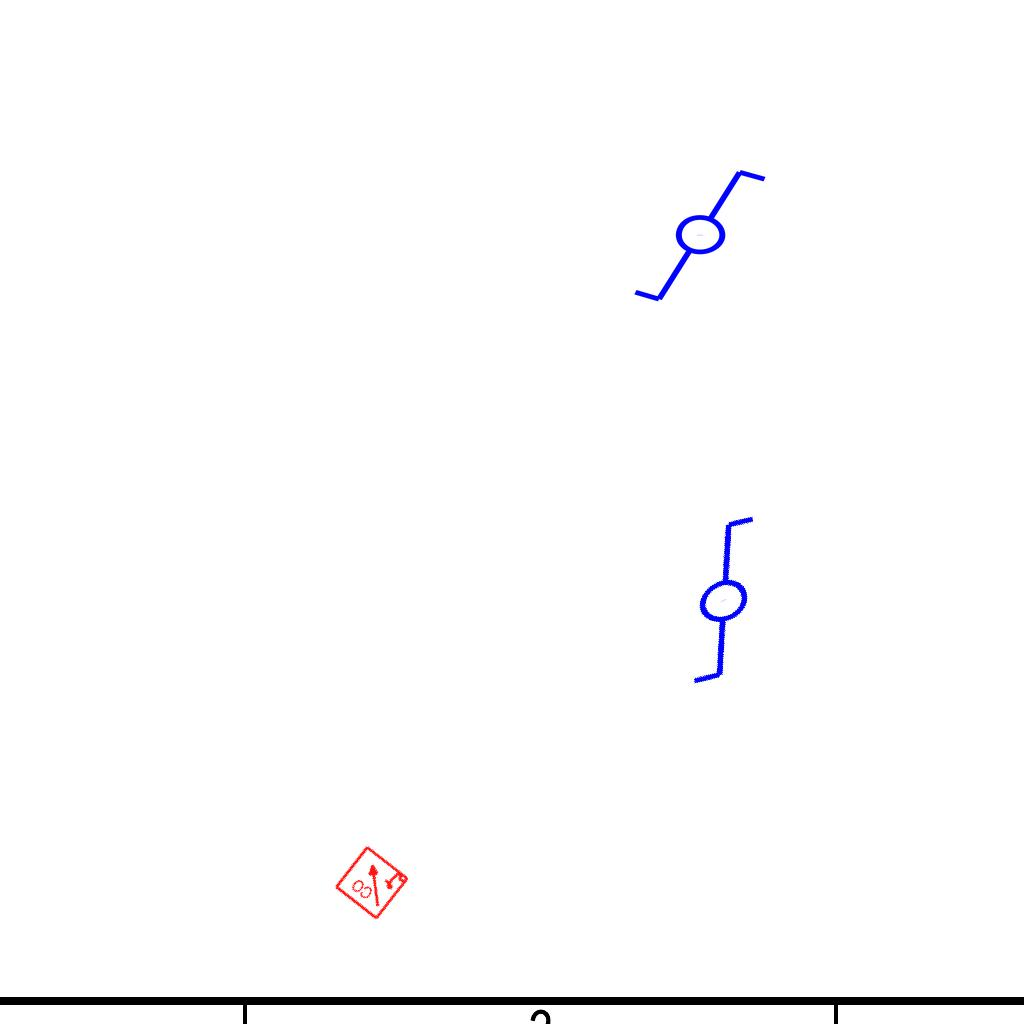ROA_Rauchmelder_optisch_mit_Signalgeber_(Sockelsirene): (332, 842, 412, 922)
Wechselschalter: (611, 501, 820, 705), (630, 165, 787, 309)
